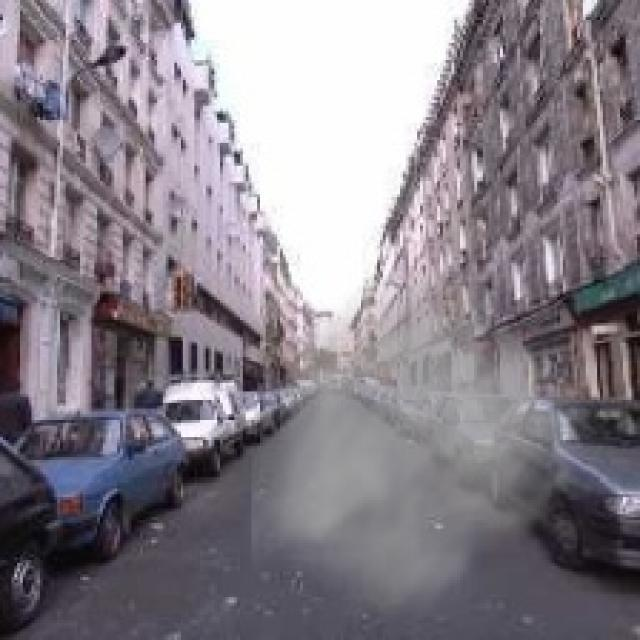Smoke: (251, 252, 620, 632)
